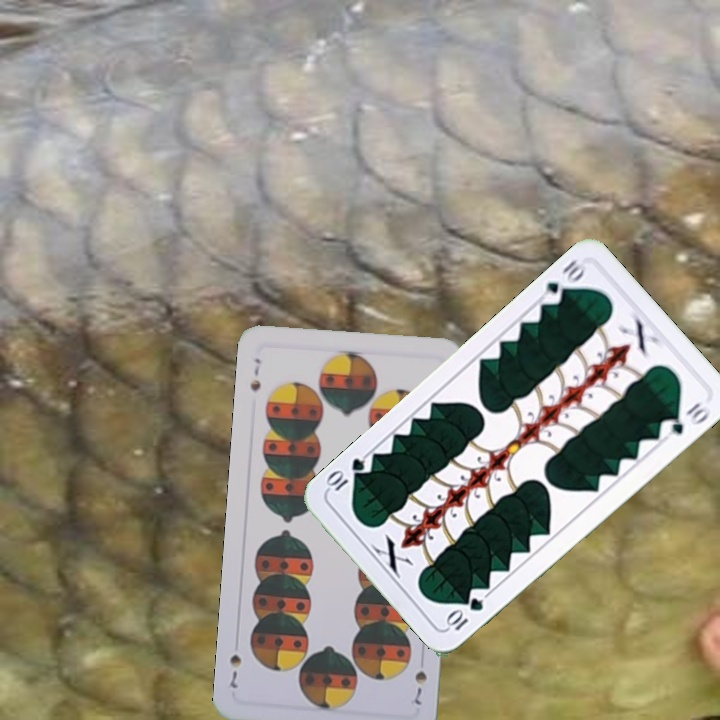G10: (537, 255, 589, 308), (442, 593, 486, 634)
S7: (410, 667, 430, 708), (246, 354, 264, 394)
